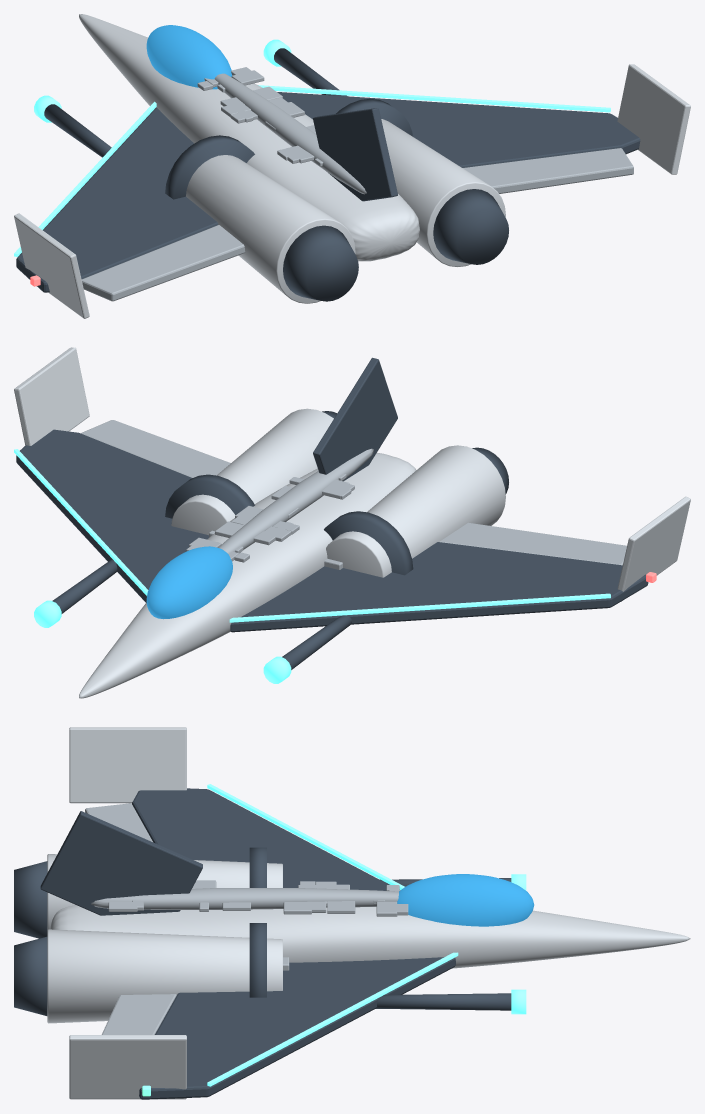
The model's file is player.glb.
3 renders of one model, top to bottom at view 1: azimuth 30°, elevation 25°; view 2: azimuth 150°, elevation 25°; view 3: azimuth 270°, elevation 25°, orthographic. The views are drawn at different scales.
Visible parts, largest first — view 1: wing, fuselage, flap, nacelle, nacelle.001, fin, winglet.001, nozzle, nozzle.001, canopy, winglet, spine (+6 smaller); view 2: wing, fuselage, nacelle, flap, nacelle.001, fin, winglet.001, canopy, winglet, spine, collar, edge (+6 smaller); view 3: wing, fuselage, nacelle.001, fin, winglet, winglet.001, canopy, spine, flap, nozzle.001, nozzle, nacelle (+5 smaller).
Boxes of the visible parts, box(x1,y1,x2,y2) form: wing: box(16, 92, 640, 292); fuselage: box(79, 14, 419, 261); flap: box(81, 148, 633, 301); nacelle: box(186, 155, 355, 303); nacelle.001: box(381, 119, 505, 266); fin: box(313, 108, 397, 201); winglet.001: box(617, 64, 690, 174); nozzle: box(283, 225, 358, 301); nozzle.001: box(433, 189, 508, 264); canopy: box(146, 25, 232, 89); winglet: box(14, 213, 89, 318); spine: box(214, 73, 366, 194); wing: box(16, 429, 648, 632); fuselage: box(79, 452, 416, 698); nacelle: box(326, 445, 505, 577); flap: box(81, 420, 626, 565); nacelle.001: box(171, 408, 333, 535); fin: box(313, 357, 397, 481); winglet.001: box(14, 347, 89, 445); canopy: box(146, 546, 232, 619); winglet: box(617, 496, 690, 601); spine: box(218, 448, 373, 553); collar: box(324, 511, 413, 575); edge: box(229, 593, 610, 622); wing: box(132, 788, 455, 1099); fuselage: box(50, 905, 690, 968); nacelle.001: box(47, 929, 282, 1023); fin: box(40, 811, 202, 915); winglet: box(69, 727, 186, 803); winglet.001: box(69, 1035, 186, 1099); canopy: box(397, 874, 534, 926); spine: box(91, 888, 398, 909); flap: box(85, 803, 176, 1034); nozzle.001: box(14, 936, 47, 1015); nozzle: box(14, 861, 47, 938); nacelle: box(47, 854, 282, 930).
Bounding box in the file's own units: 5.97 × 1.55 × 5.46.
